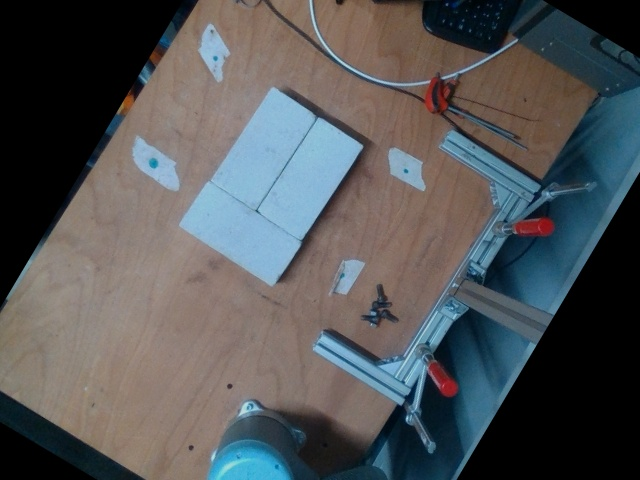brick: (258, 117, 363, 239), (211, 86, 315, 208), (179, 180, 300, 284)
